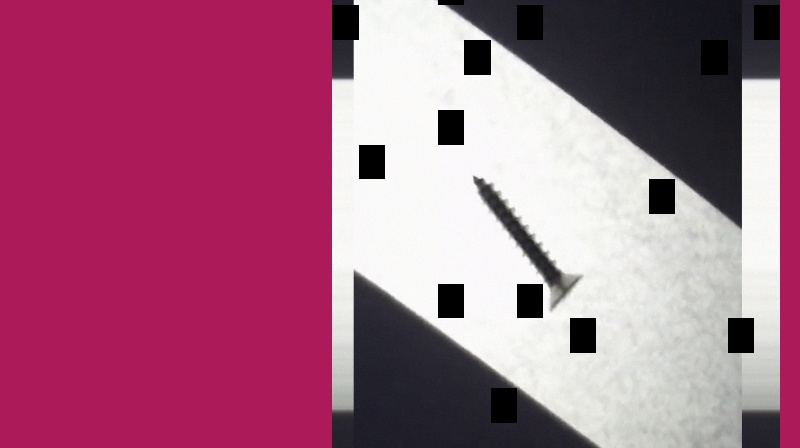S001: (470, 173, 587, 314)
